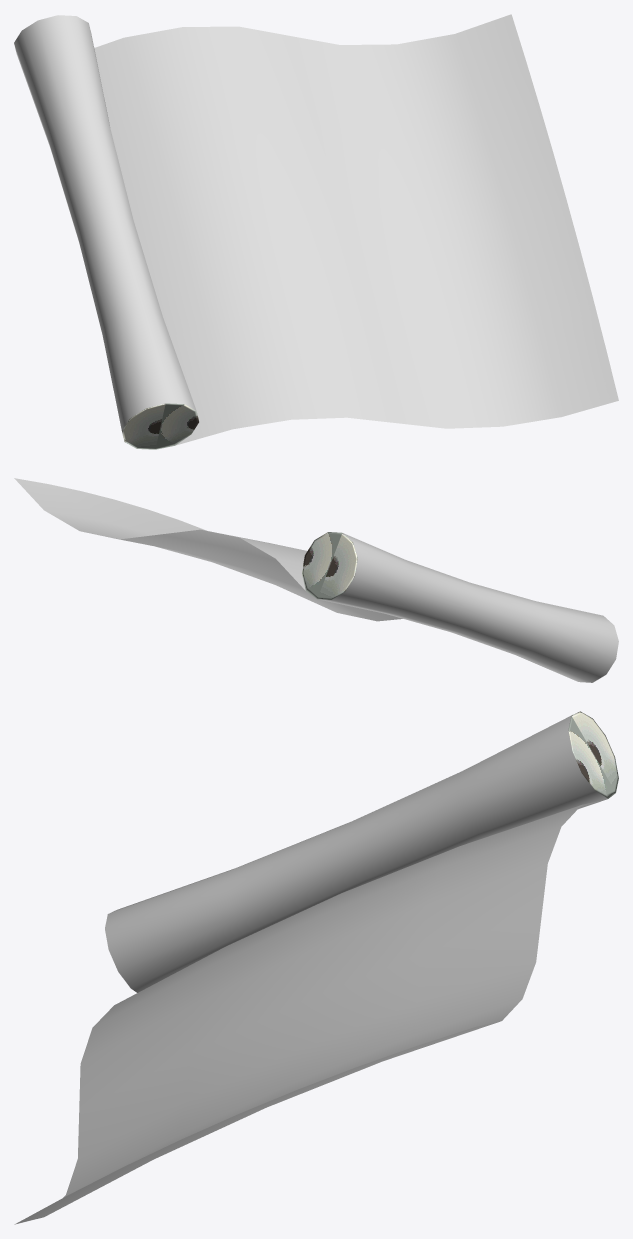
Rendered from catalog_wall.dae.
3 views of the same model, one above another, from view 1: azimuth 30°, elevation 25°; view 2: azimuth 150°, elevation 25°; view 3: azimuth 270°, elevation 25° (orthographic). The views are drawn at different scales.
Parts seen in each view (by area): view 1: catalog_wall; view 2: catalog_wall; view 3: catalog_wall.
Boxes of the visible parts, left/top/right/bottom form: catalog_wall: left=14, top=14, right=618, bottom=449; catalog_wall: left=14, top=478, right=618, bottom=682; catalog_wall: left=14, top=711, right=618, bottom=1224.
Size of the model in its own units: 73.9 by 40.42 by 62.88.
Materials: 2 (1 with a texture image).
